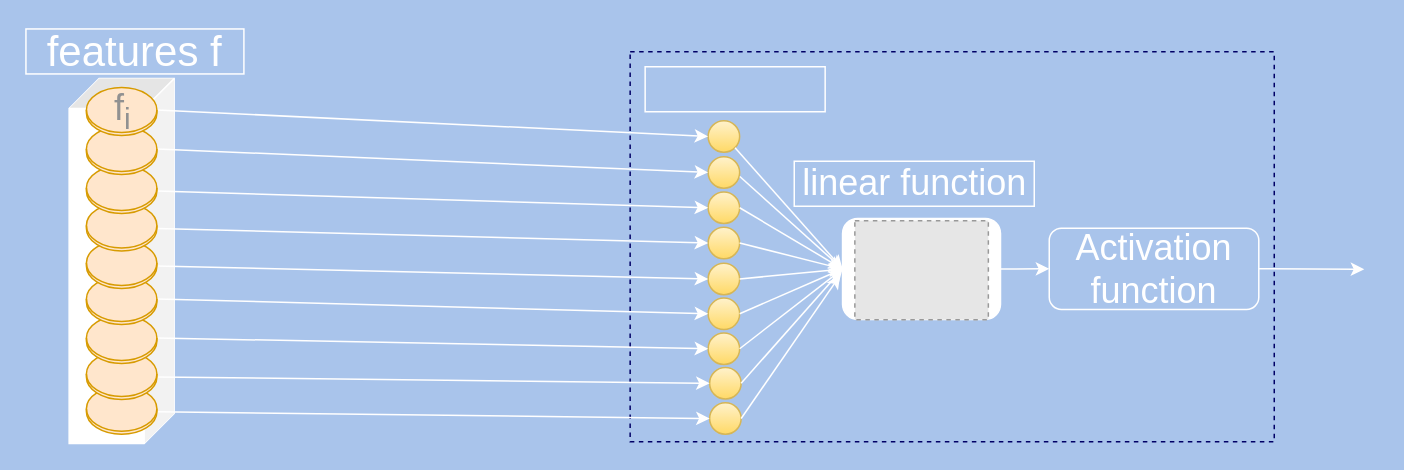
This 1404x470 diagram has some shape labels left out. Grey dashed boxes stand in for pictures. Each missing label, with the centre of its shape:
w i: pixel 723 135
weights w: pixel 734 88
